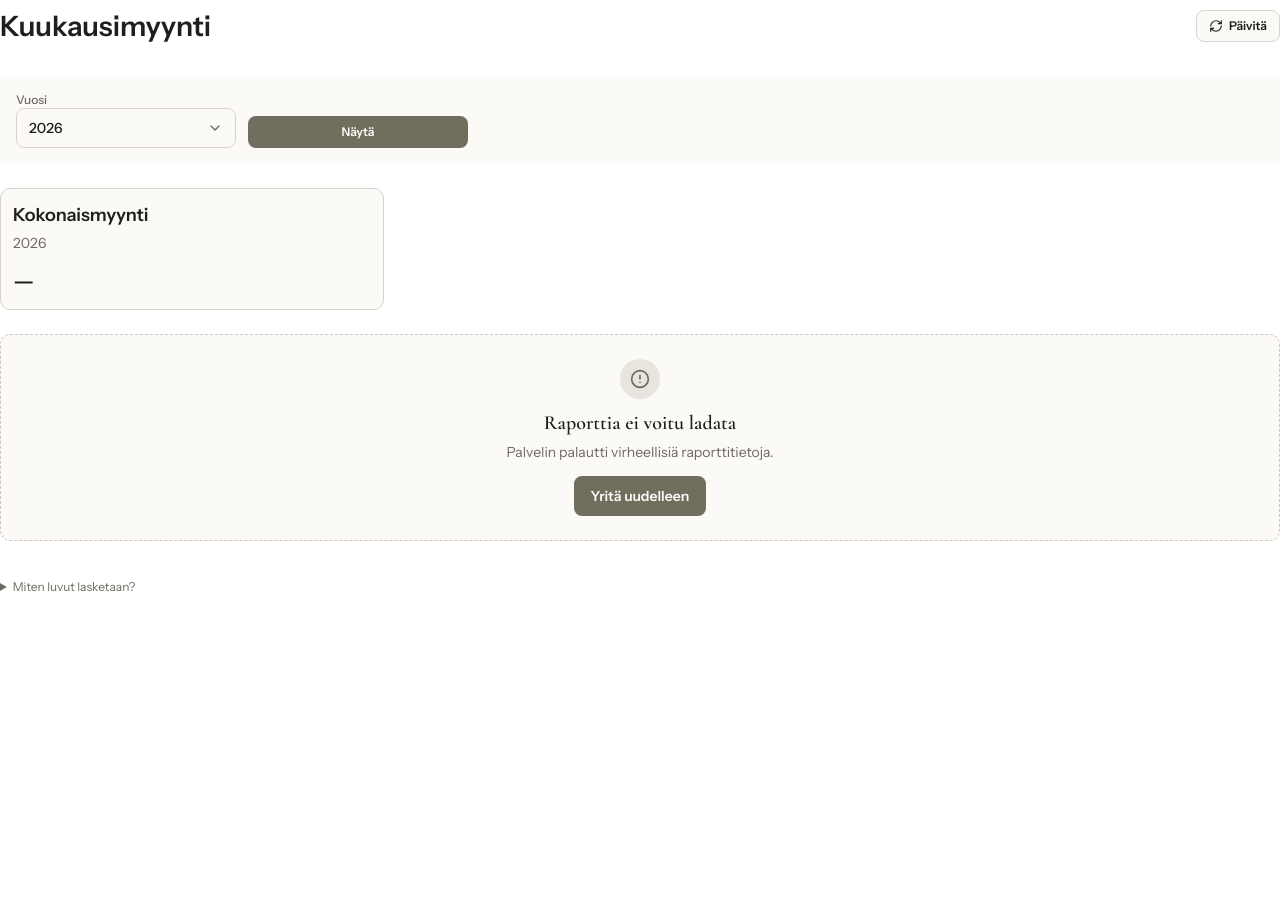
Test: Kuukausimyynti report › rejects a daily response and allows retry with the monthly contract
This screenshot has width=1280, height=900.
Expected: the heading "Raporttia ei voitu ladata" is shown, [544, 411, 736, 435]
Click the button "Yritä uudelleen" at (640, 496), box [574, 476, 706, 516]
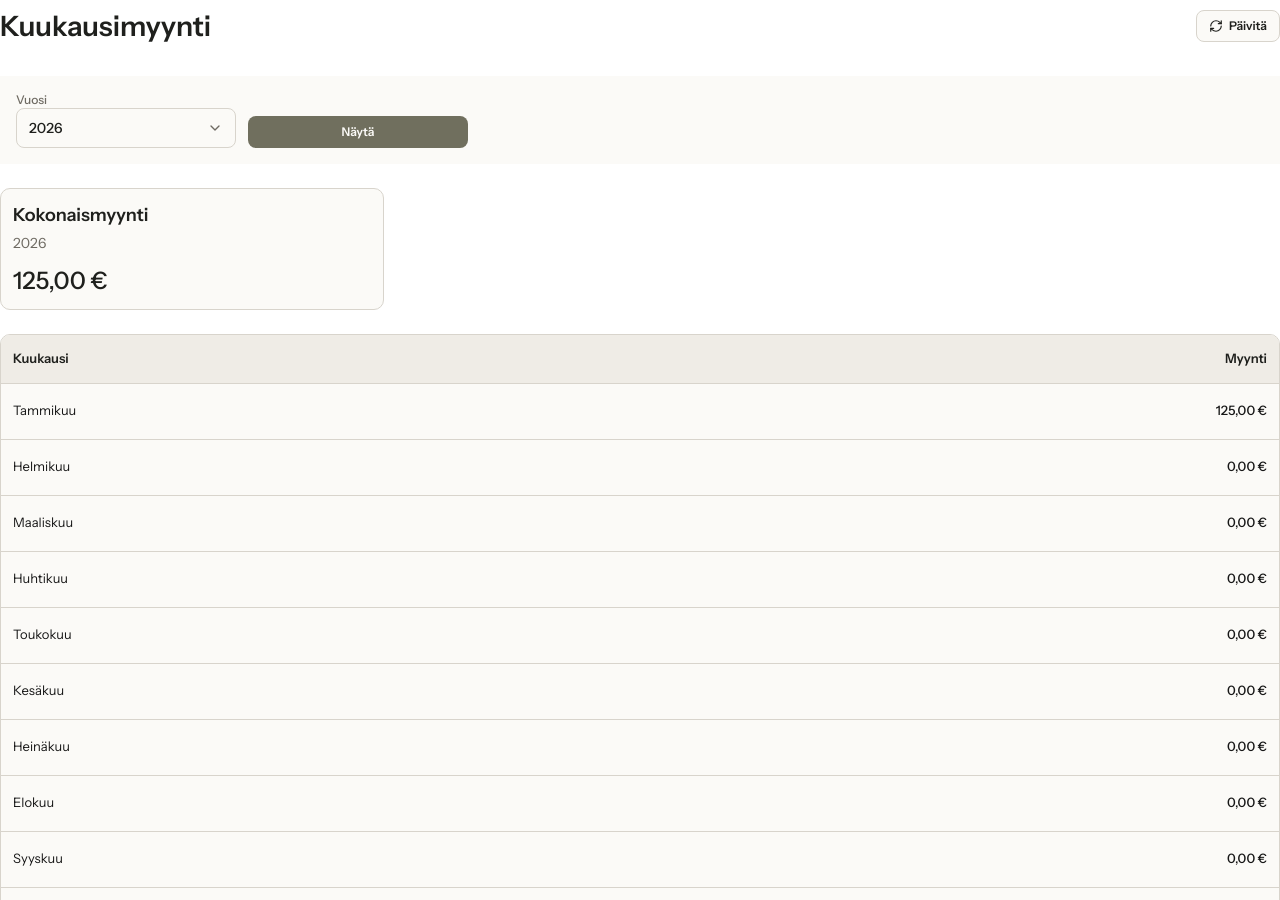
Result: the text "Tammikuu" is shown at [1, 383, 688, 439]
